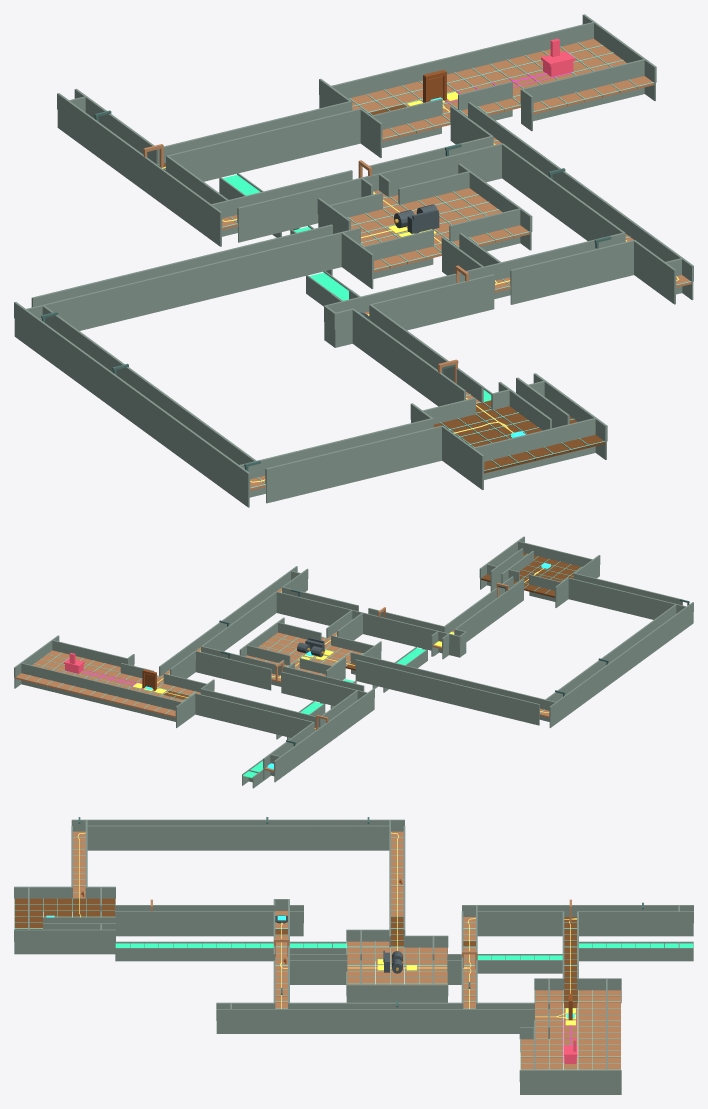
3 renders of one model, top to bottom at view 1: azimuth 30°, elevation 25°; view 2: azimuth 150°, elevation 25°; view 3: azimuth 270°, elevation 25°, orthographic. The views are drawn at different scales.
Visible parts, largest first — view 1: SewerWalls_public, Cliffs_sewer_wall_public, Terrain_brick_-15_public, Terrain_wood_-15_public, Grid_-15_public, Terrain_sewage_-20_public, BuriedShrineAltar; view 2: SewerWalls_public, Cliffs_sewer_wall_public, Terrain_brick_-15_public, Terrain_wood_-15_public, Grid_-15_public, Terrain_sewage_-20_public; view 3: SewerWalls_public, Cliffs_sewer_wall_public, Terrain_brick_-15_public, Terrain_wood_-15_public, Grid_-15_public, Terrain_sewage_-20_public.
Boxes of the visible parts, x1,y1,x2,y2 form: SewerWalls_public: (14,14,693,489); Cliffs_sewer_wall_public: (14,83,693,507); Terrain_brick_-15_public: (222,38,691,490); Terrain_wood_-15_public: (158,104,605,473); Grid_-15_public: (158,42,691,488); Terrain_sewage_-20_public: (223,175,491,401); BuriedShrineAltar: (541,38,575,76); SewerWalls_public: (14,536,693,771); Cliffs_sewer_wall_public: (14,565,693,788); Terrain_brick_-15_public: (15,588,549,771); Terrain_wood_-15_public: (163,553,581,730); Grid_-15_public: (25,554,581,730); Terrain_sewage_-20_public: (243,648,425,778); SewerWalls_public: (14,819,693,1081); Cliffs_sewer_wall_public: (14,837,693,1094); Terrain_brick_-15_public: (73,831,620,1069); Terrain_wood_-15_public: (14,898,577,1007); Grid_-15_public: (14,837,620,1069); Terrain_sewage_-20_public: (115,943,693,959).
Bounding box in the file's own units: 41.12 × 3.59 × 47.06.
